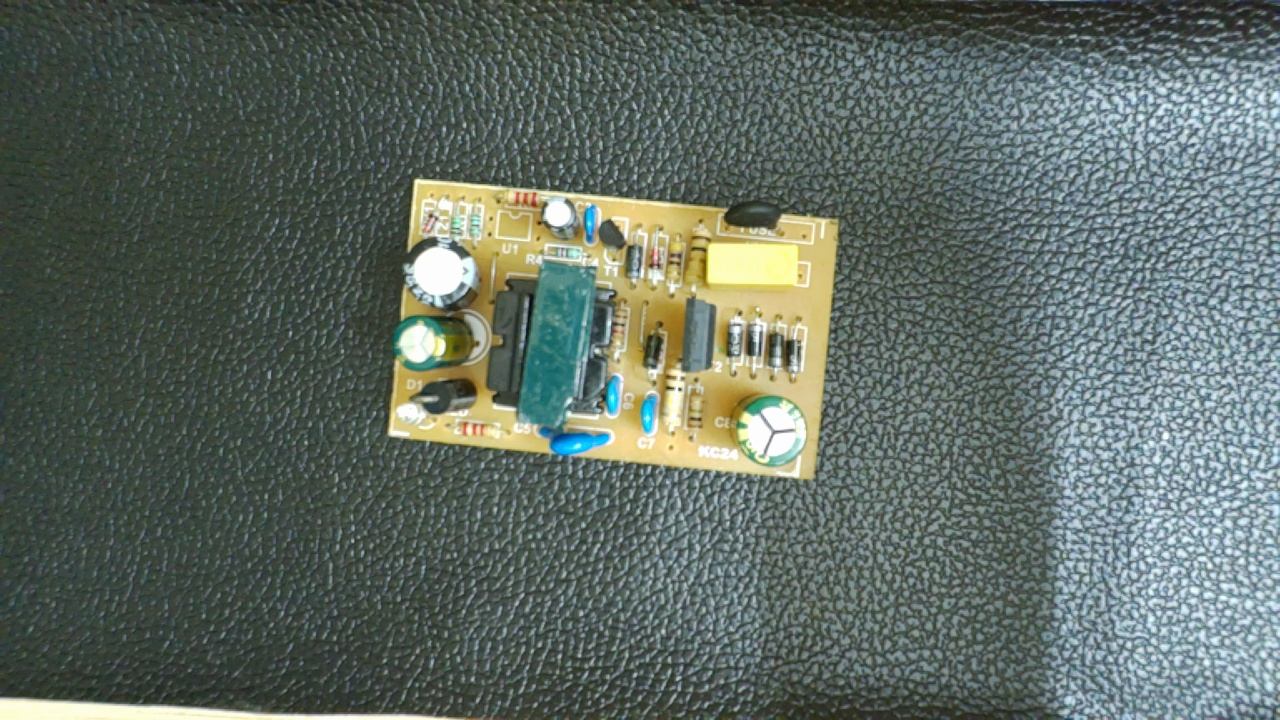fuse: (717, 197, 797, 242)
hv_capacitor: (728, 392, 812, 468)
mov: (531, 419, 617, 456)
